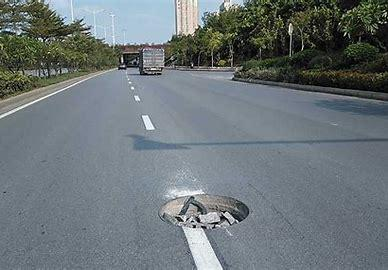wellcover: (156, 188, 258, 238)
